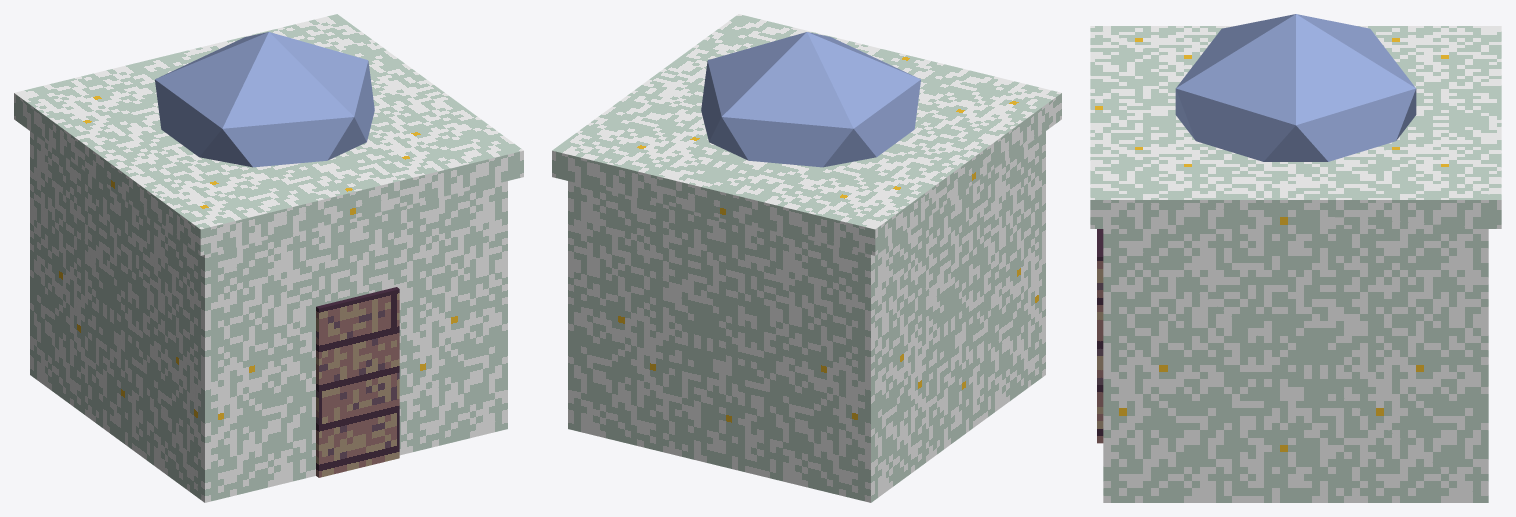
Rendered from aeropolis_casa_2.glb.
3 renders of one model, left to right at view 1: azimuth 30°, elevation 25°; view 2: azimuth 150°, elevation 25°; view 3: azimuth 270°, elevation 25°, orthographic. The views are drawn at different scales.
Parts seen in each view (by area): view 1: aeropolis_casa_2; view 2: aeropolis_casa_2; view 3: aeropolis_casa_2.
Boxes of the visible parts, x1,y1,x2,y2 form: aeropolis_casa_2: (14, 14, 523, 502); aeropolis_casa_2: (552, 14, 1061, 502); aeropolis_casa_2: (1090, 14, 1501, 502).
Bounding box in the file's own units: 3.2 × 3.5 × 3.2.
3 materials, 2 textured.
